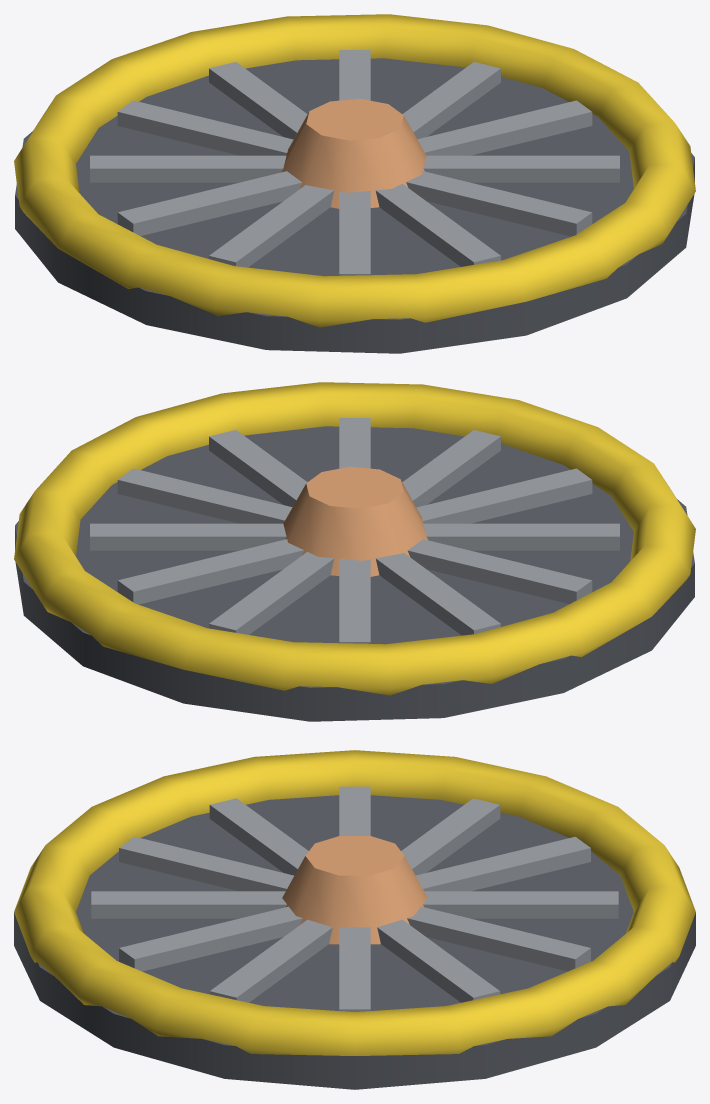
The model's file is trap_vent.glb.
3 views of the same model, one above another, from view 1: azimuth 30°, elevation 25°; view 2: azimuth 150°, elevation 25°; view 3: azimuth 270°, elevation 25° (orthographic).
Parts seen in each view (by area): view 1: trap_vent; view 2: trap_vent; view 3: trap_vent.
Part boxes in pixels (x1,y1,x2,y2): trap_vent: (14, 14, 695, 353); trap_vent: (14, 382, 695, 721); trap_vent: (14, 750, 695, 1089).
Size of the model in its own units: 1.1 by 0.16 by 1.1.
